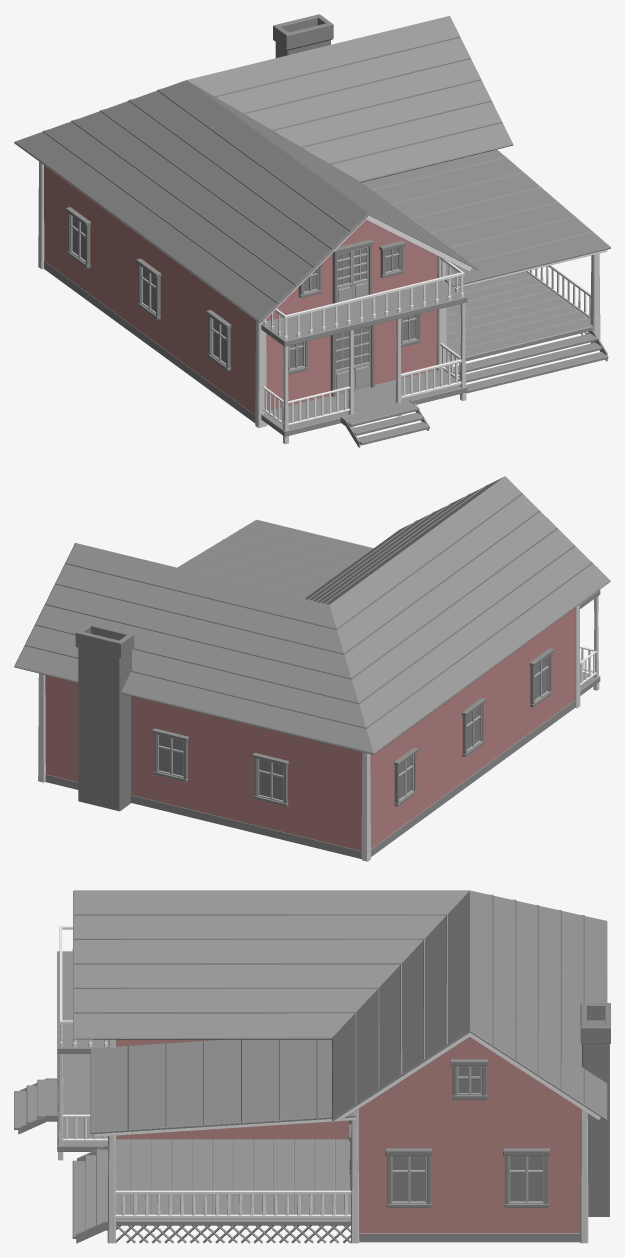
Rendered from fp_casa_l2.glb.
3 renders of one model, top to bottom at view 1: azimuth 30°, elevation 25°; view 2: azimuth 150°, elevation 25°; view 3: azimuth 270°, elevation 25°, orthographic. The views are drawn at different scales.
Bounding box in the file's own units: 1.45 × 0.7716 × 1.85.
